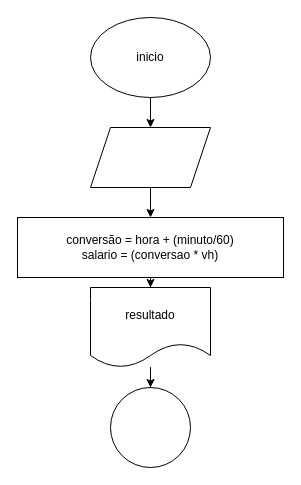
This 301x485 diagram has some shape labels left out. Here are the shapes that lost their labels. From the top down, the centre of each, then its label:
the point at 150,157: hora = 3 minutos = 43 vh = 35
the point at 150,427: fim
